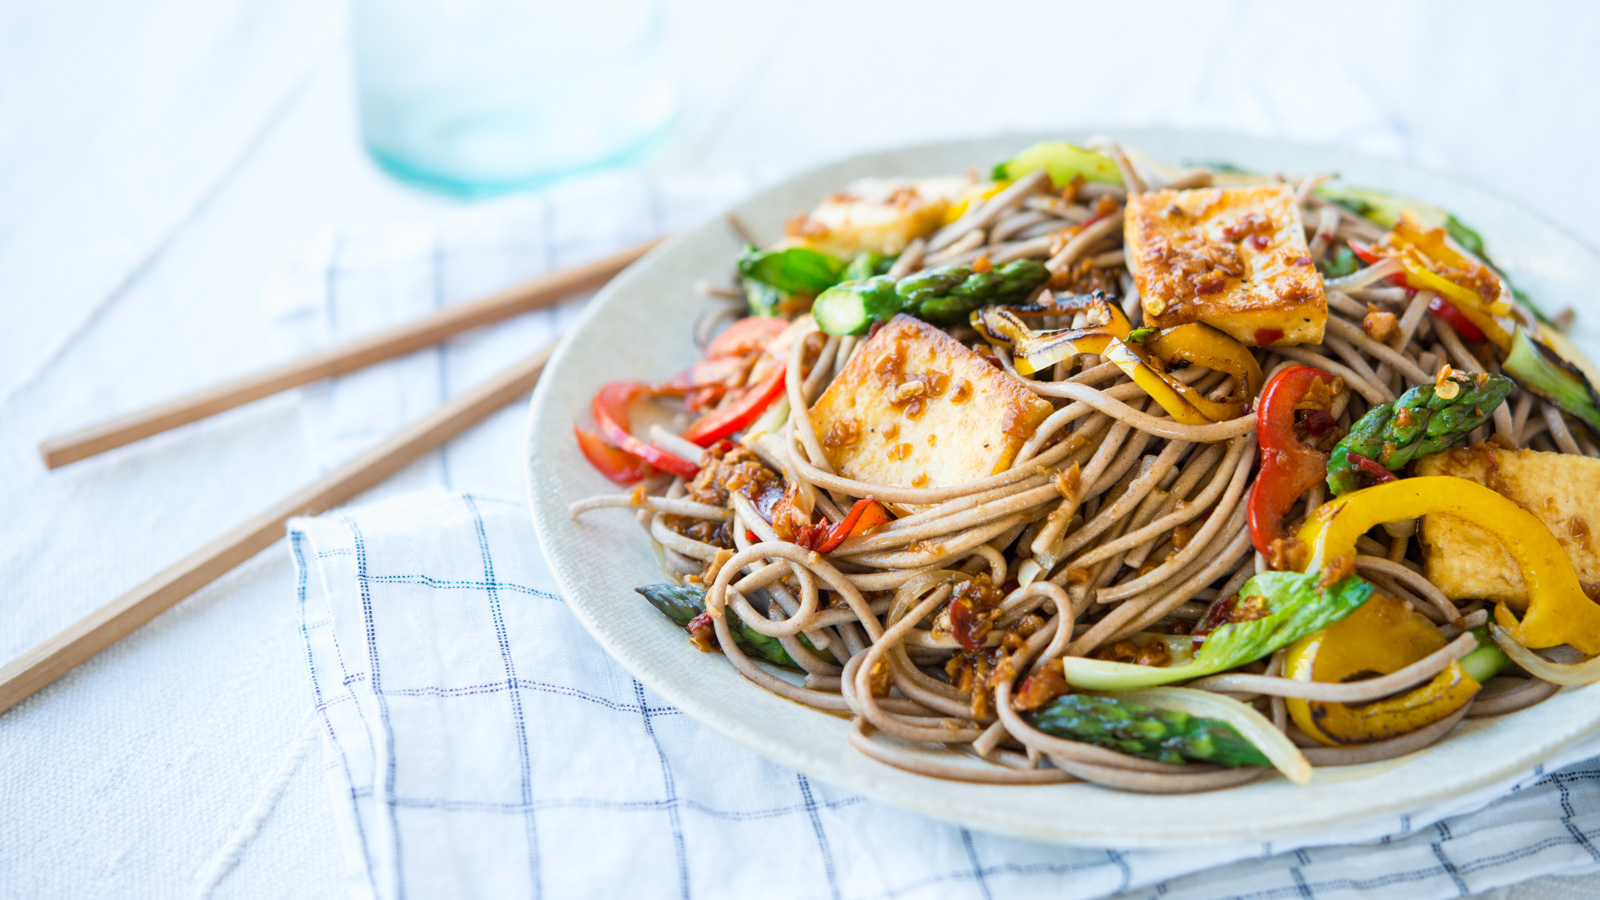Soba: (595, 191, 1595, 786)
